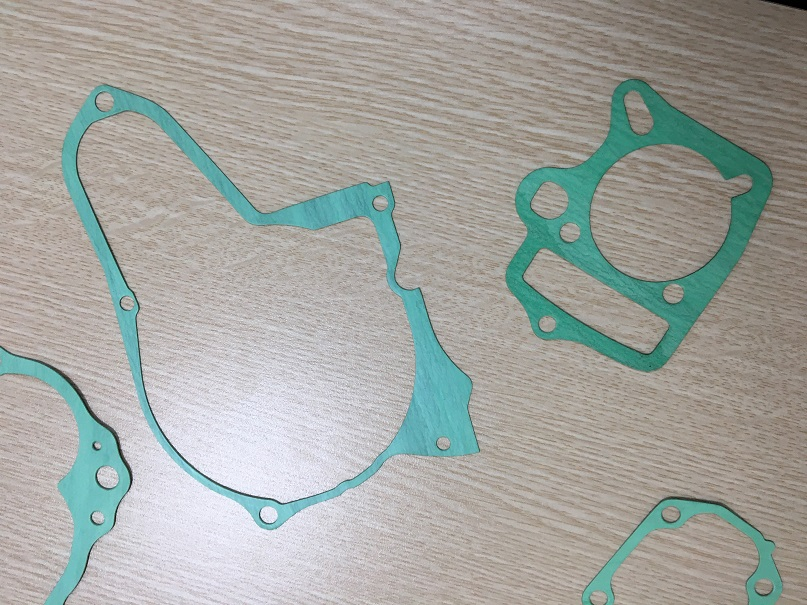type1: (50, 75, 492, 533)
type4: (500, 75, 779, 375)
